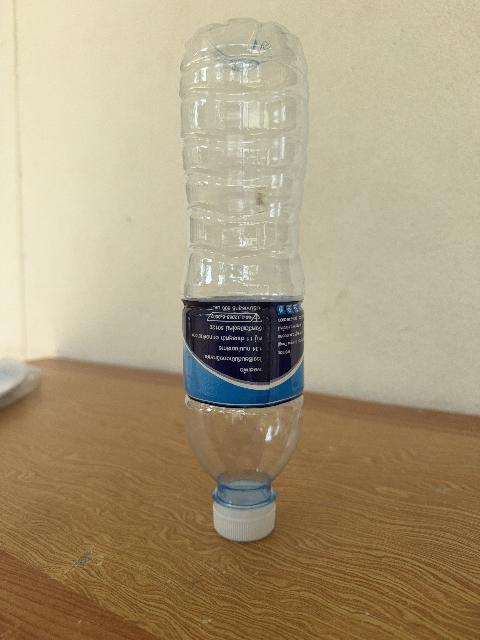bottle: (180, 19, 307, 541)
